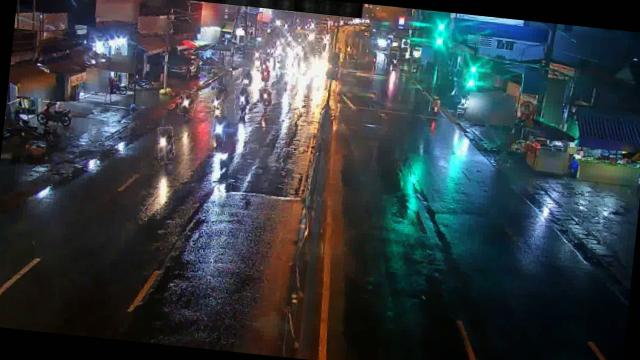Bike: (35, 101, 73, 131), (156, 126, 177, 163), (234, 86, 254, 117), (210, 114, 227, 146), (178, 90, 196, 116), (258, 87, 274, 108), (210, 86, 223, 108), (240, 68, 255, 86), (430, 94, 443, 114)
